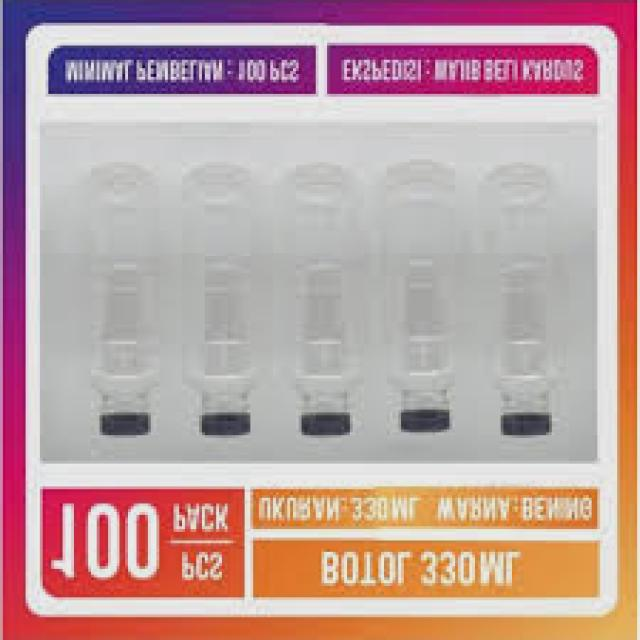bottle: (174, 163, 276, 439), (385, 162, 480, 440), (482, 154, 572, 438), (79, 161, 162, 441), (288, 158, 370, 441)
